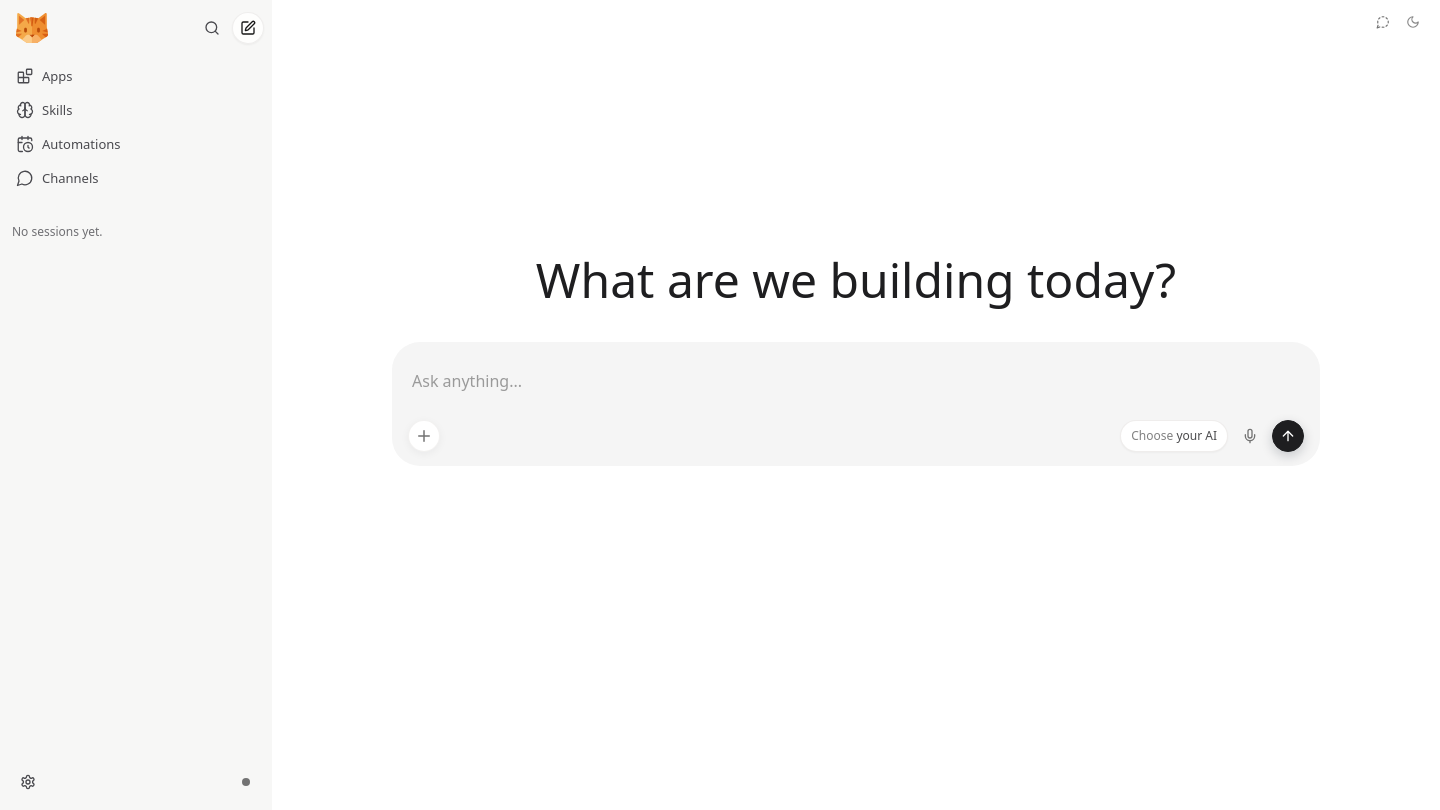
Test: App layout › opens the full Models settings directly from the first-run prompt
Click the button "Choose your AI": x=1174, y=436 [1120,420,1228,452]
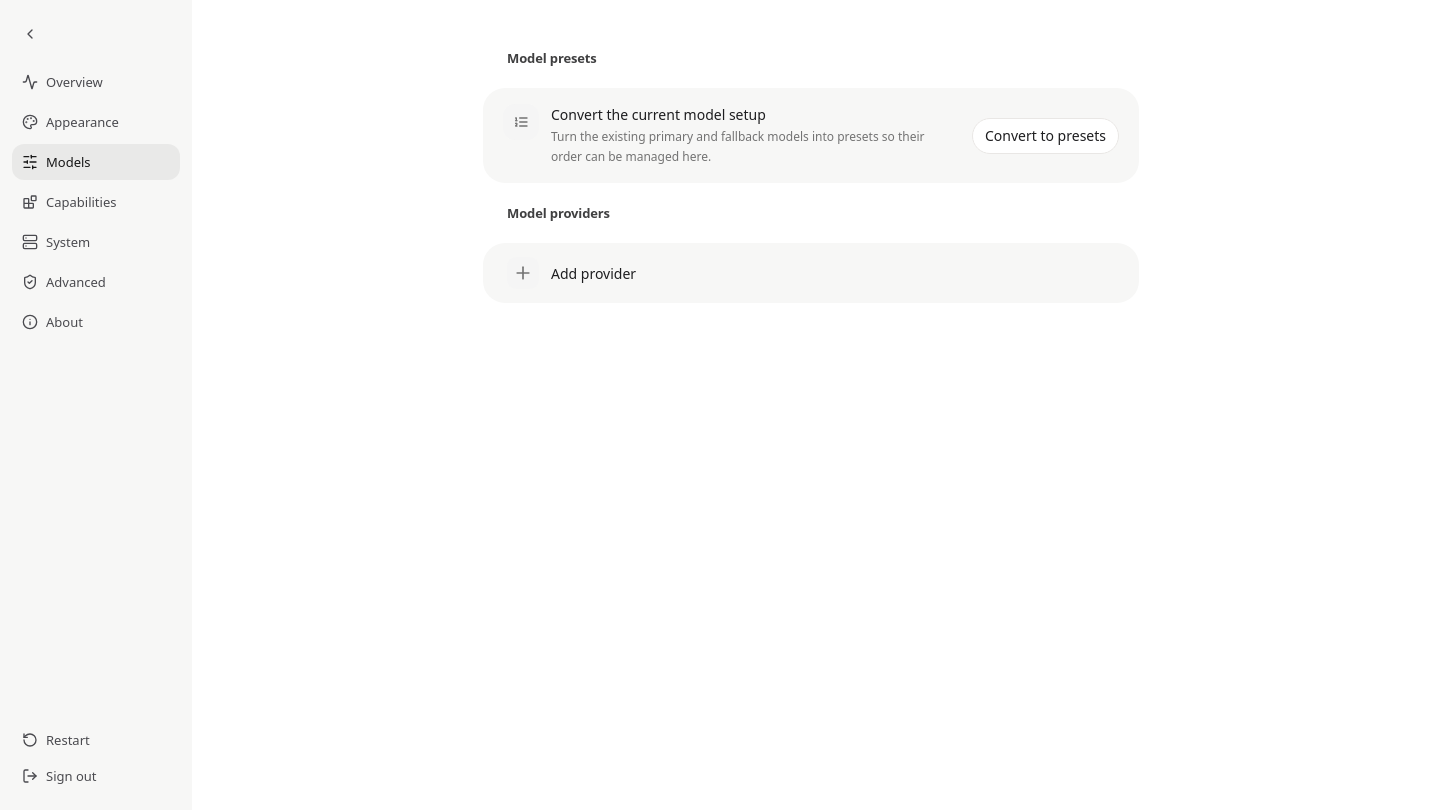
Result: the navigation bar named "Settings sections" is shown at [12,64,180,340]
Result: the heading "Model providers" is shown at [507,204,610,222]
Result: the button "Add provider" is shown at [483,243,1139,303]
